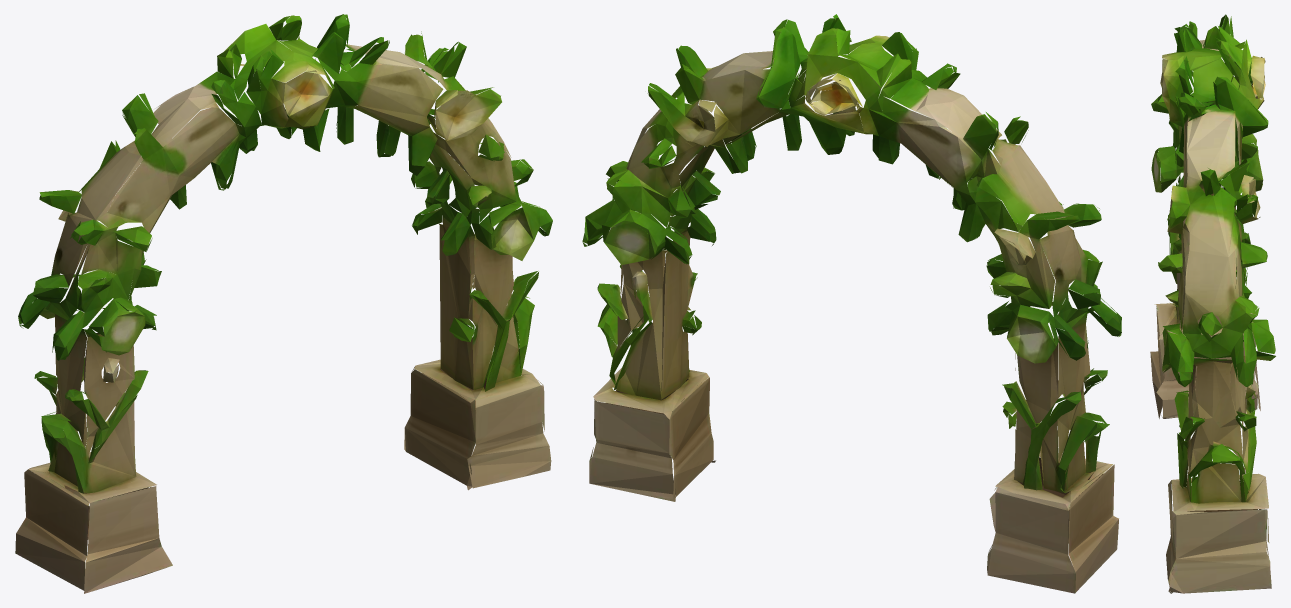
The model's file is arch.glb.
The picture shows the model from 3 angles, left to right: view 1: azimuth 30°, elevation 25°; view 2: azimuth 150°, elevation 25°; view 3: azimuth 270°, elevation 25°; orthographic projection. The views are drawn at different scales.
Parts seen in each view (by area): view 1: geometry_0; view 2: geometry_0; view 3: geometry_0.
Part boxes in pixels (left/top/right/bottom): geometry_0: left=15, top=14, right=552, bottom=593; geometry_0: left=582, top=14, right=1121, bottom=593; geometry_0: left=1150, top=14, right=1275, bottom=593.
Bounding box in the file's own units: 1 × 0.9396 × 0.238.
Materials: 1 (1 with a texture image).
